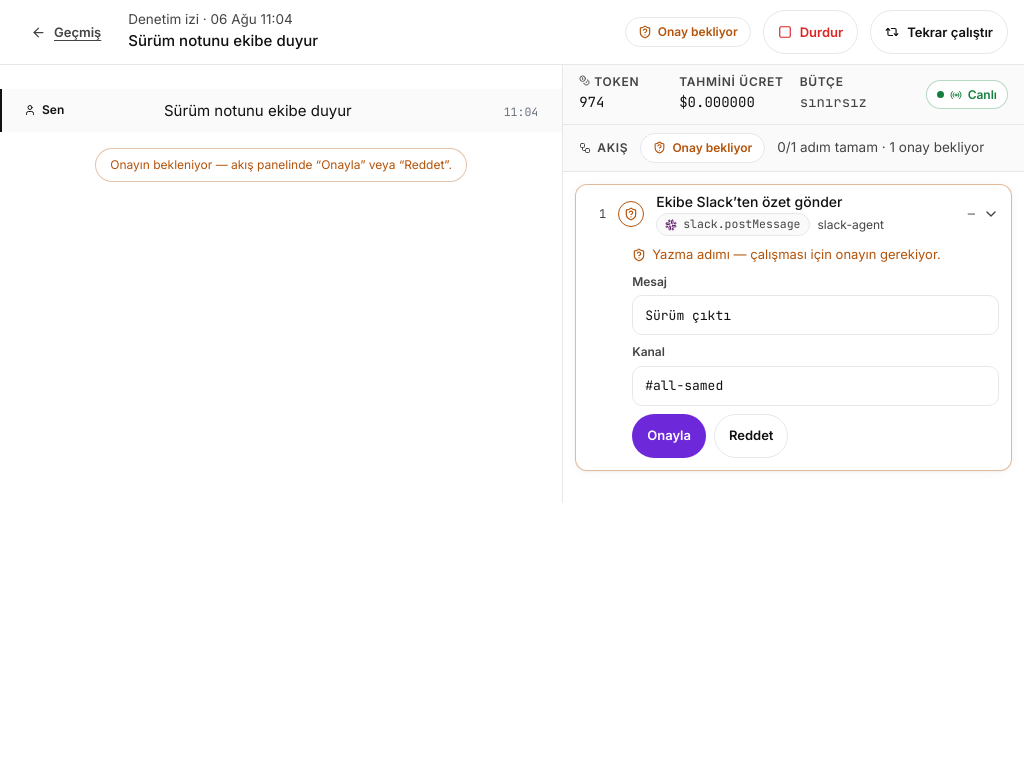
Test case: a_refused_parameter_edit_is_reported_under_the_box_that_caused_it
Replace the text in the field showing "#all-samed" with "dev". click: coordinates (816, 386)
box: [632, 366, 999, 406]
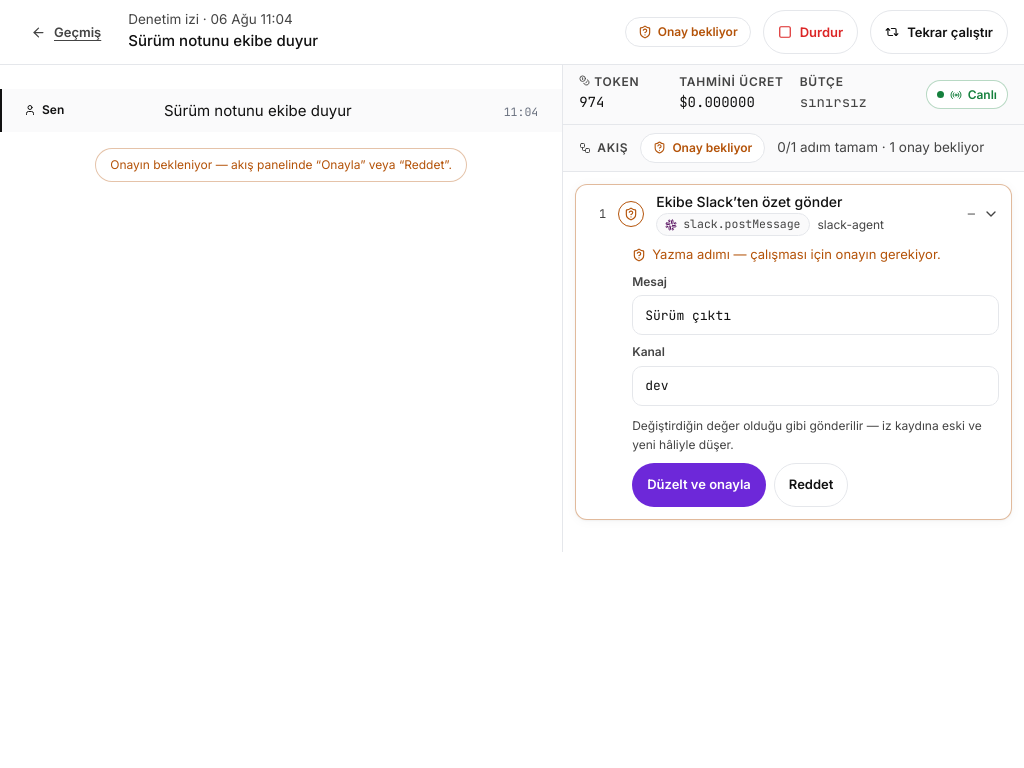
Click the button "Düzelt ve onayla". click: coordinates (699, 485)
box: [632, 463, 766, 507]
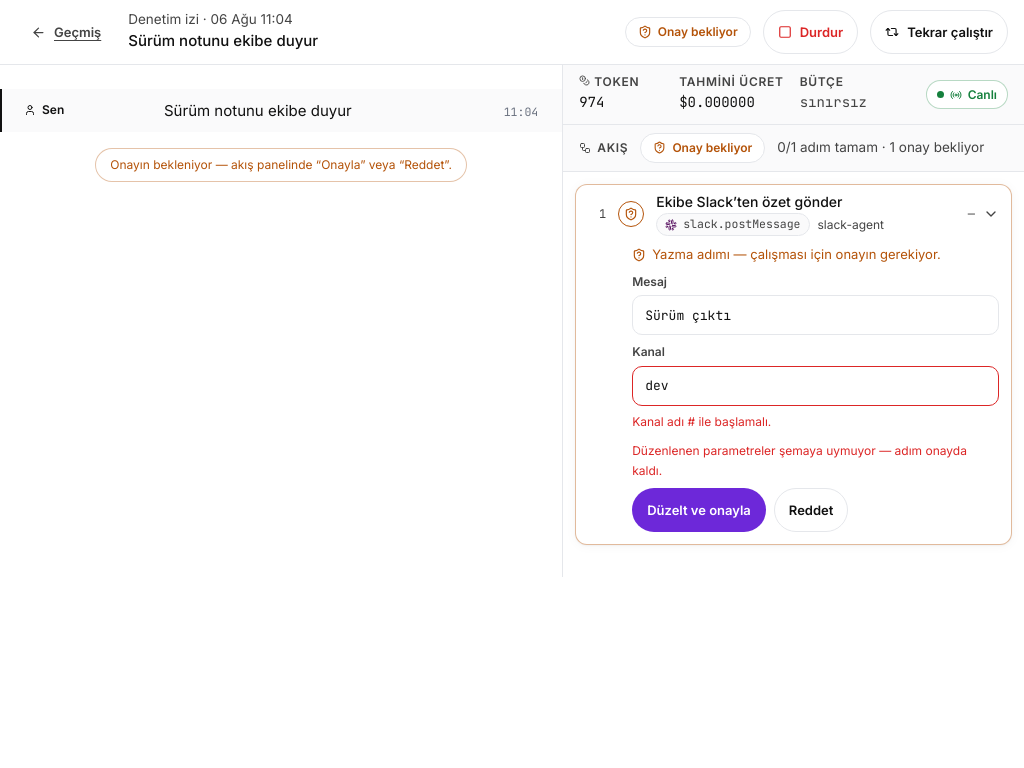
Expected: the text "Kanal adı # ile başlamalı." is shown, [632, 414, 771, 429]
